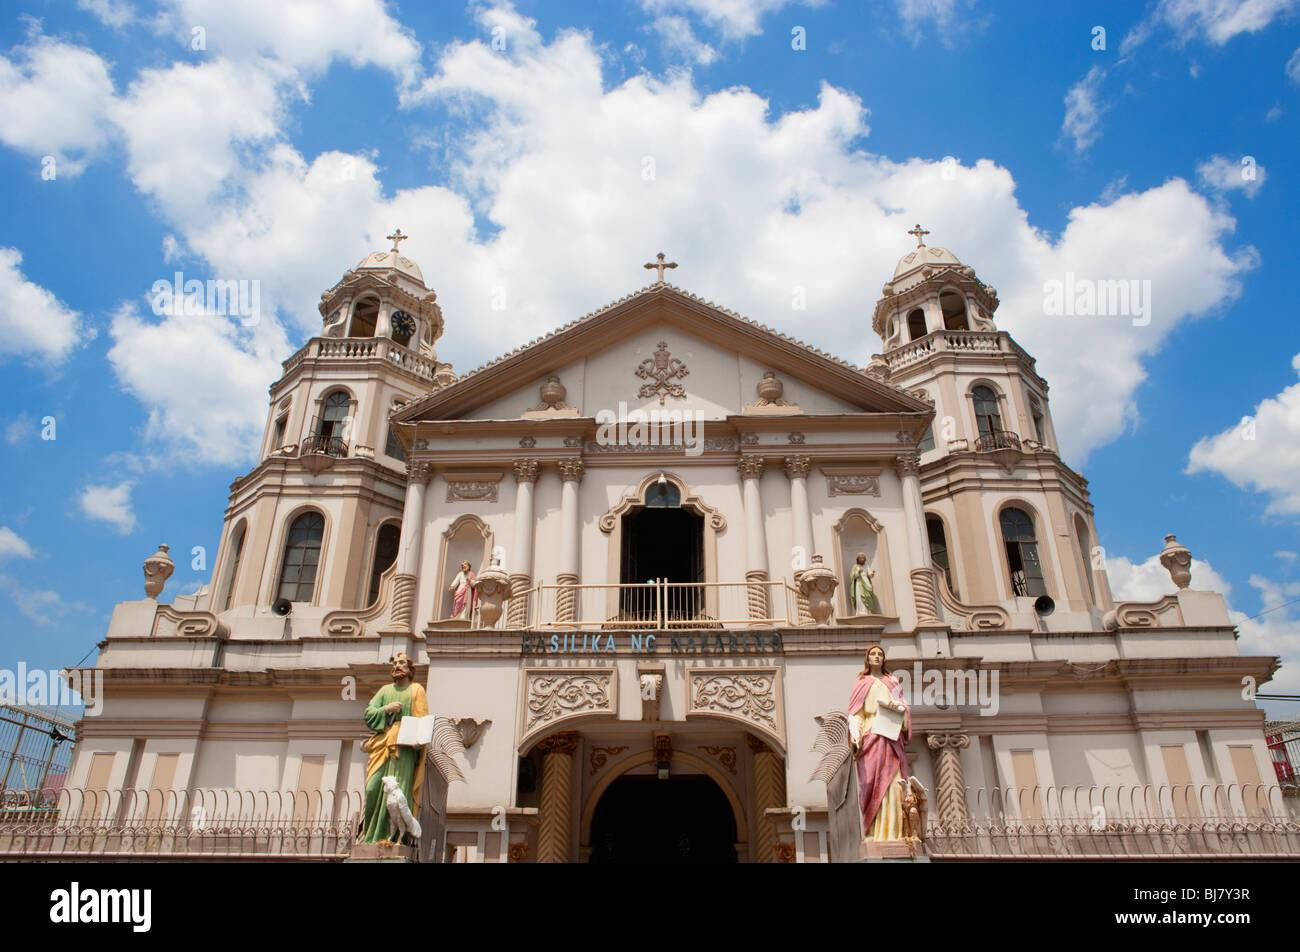quiapo_church_quiapo_manila: (50, 213, 1293, 853)
